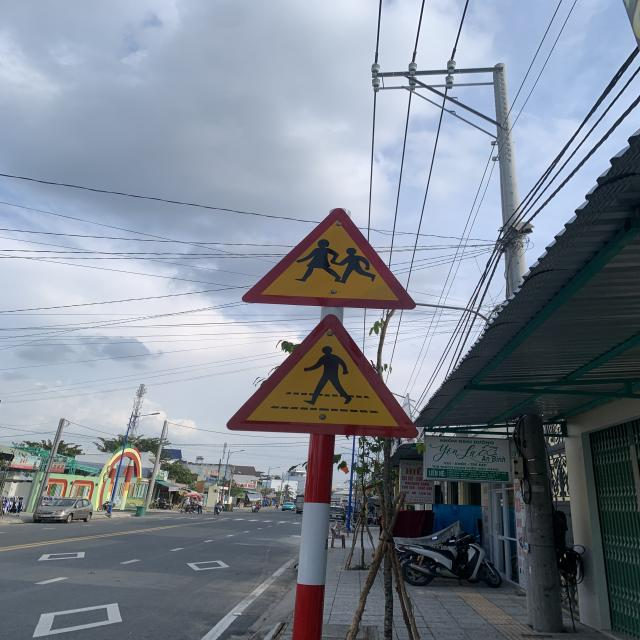Duong_Nguoi_Di_Bo_Sang_Ngang: (226, 314, 418, 438)
Vong_Xuyen: (240, 208, 416, 310)
